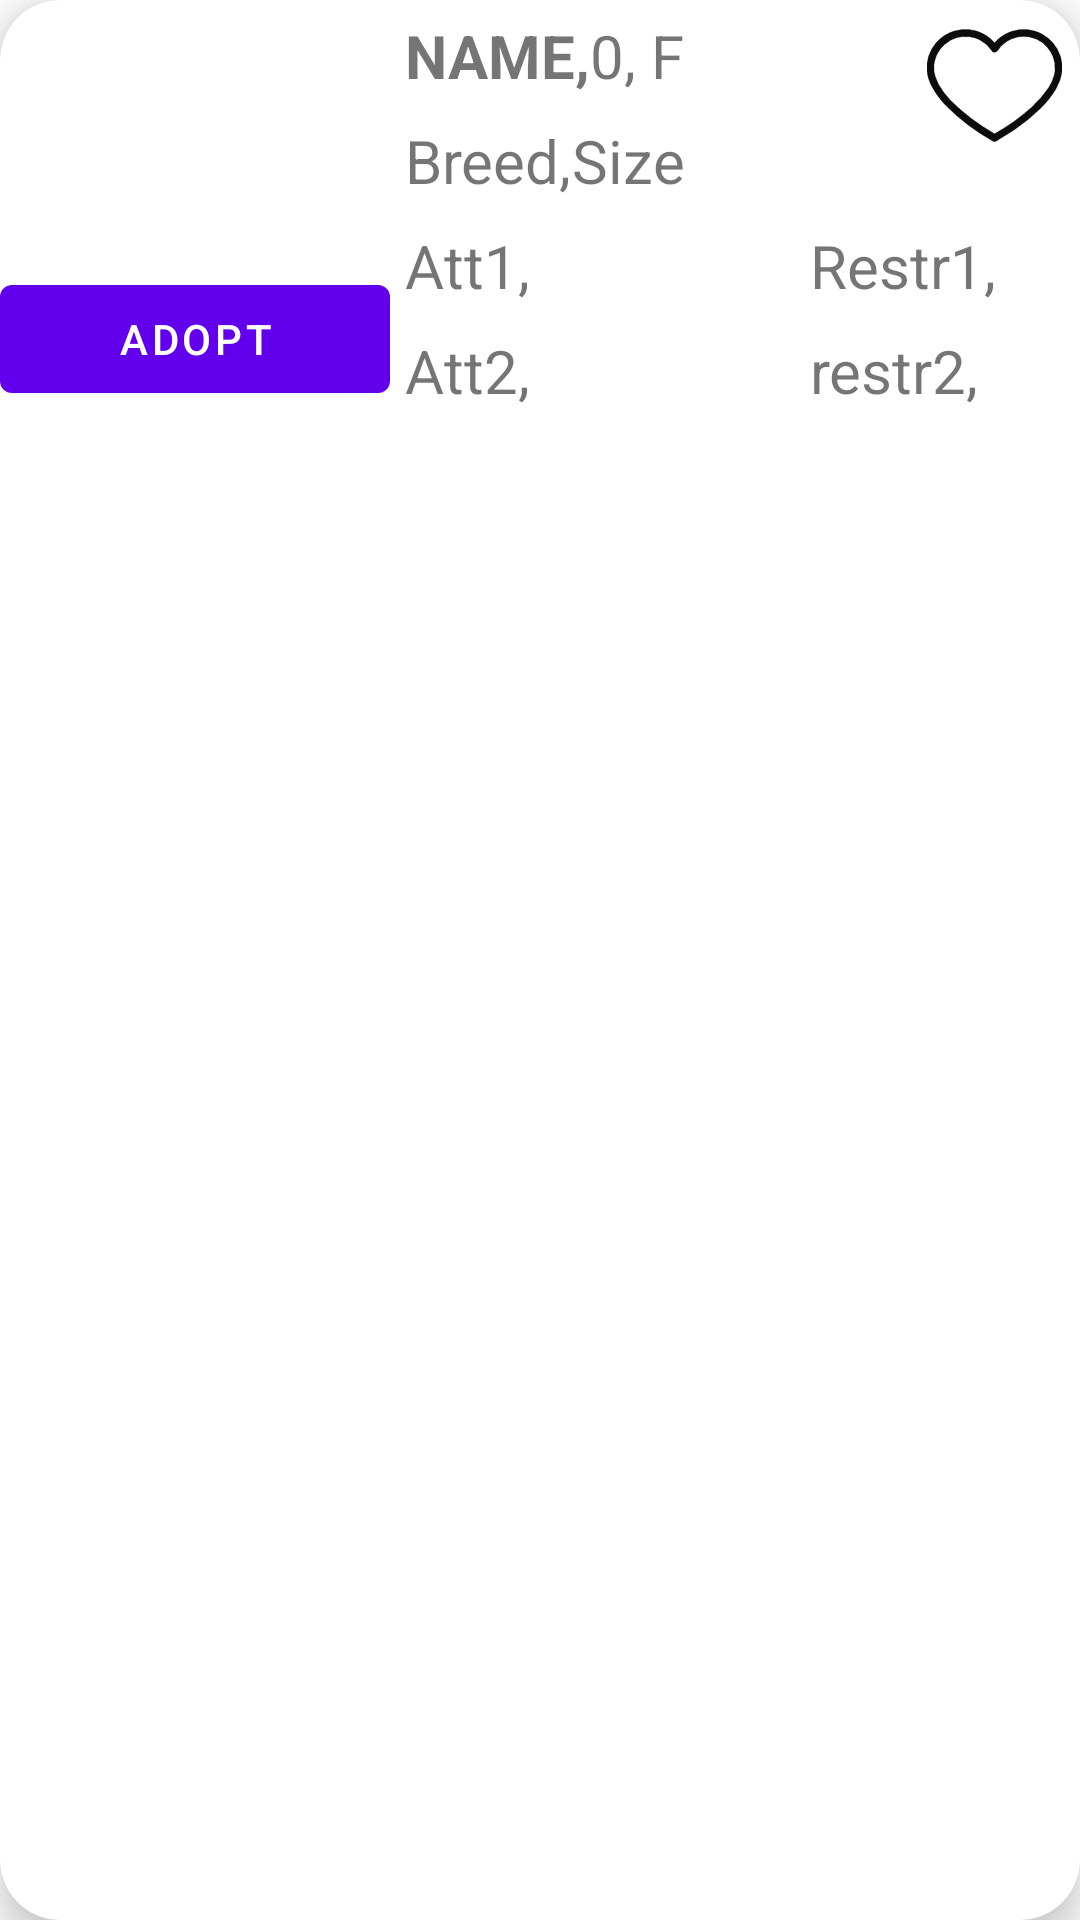

Screen size 1080 x 1920. Icon name, then its center in pixels as [x,y]:
heart empty: [994,85]
